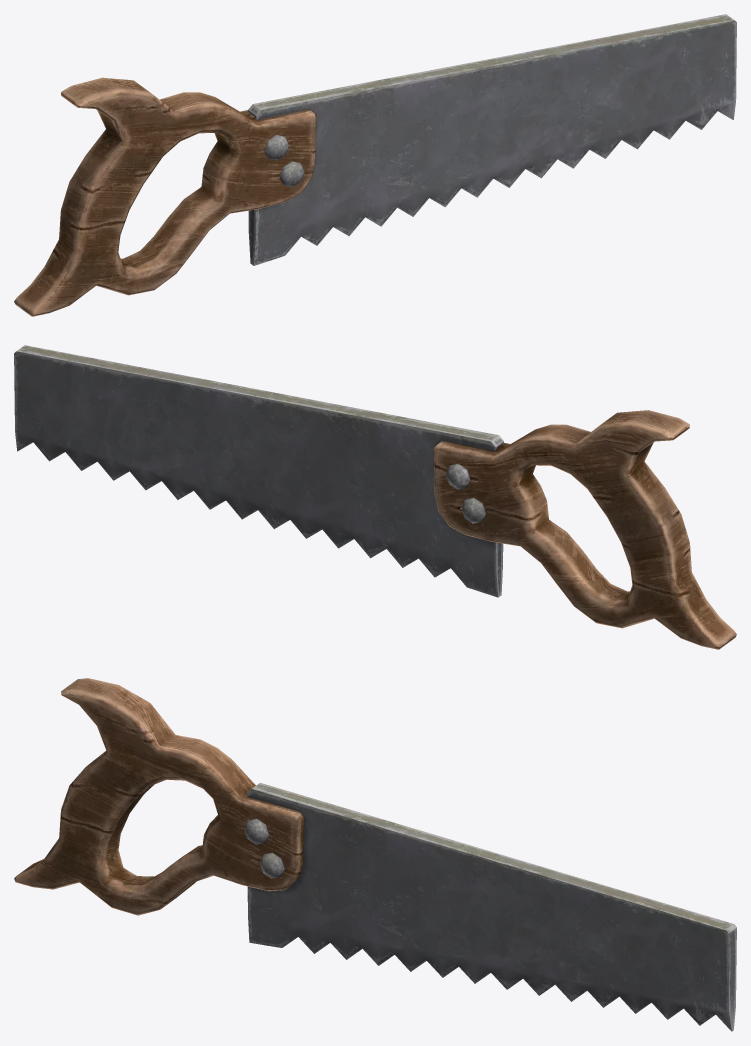
3 renders of one model, top to bottom at view 1: azimuth 30°, elevation 25°; view 2: azimuth 150°, elevation 25°; view 3: azimuth 330°, elevation 25°, orthographic.
Visible parts, largest first — view 1: SM_Workshop_Tools_Saw_Large_LOD0; view 2: SM_Workshop_Tools_Saw_Large_LOD0; view 3: SM_Workshop_Tools_Saw_Large_LOD0.
Boxes of the visible parts, left/top/right/bottom form: SM_Workshop_Tools_Saw_Large_LOD0: left=14, top=14, right=736, bottom=316; SM_Workshop_Tools_Saw_Large_LOD0: left=14, top=345, right=736, bottom=649; SM_Workshop_Tools_Saw_Large_LOD0: left=14, top=678, right=736, bottom=1031.
Size of the model in its own units: 0.8121 by 0.2349 by 0.0565.
Materials: 1 (1 with a texture image).
